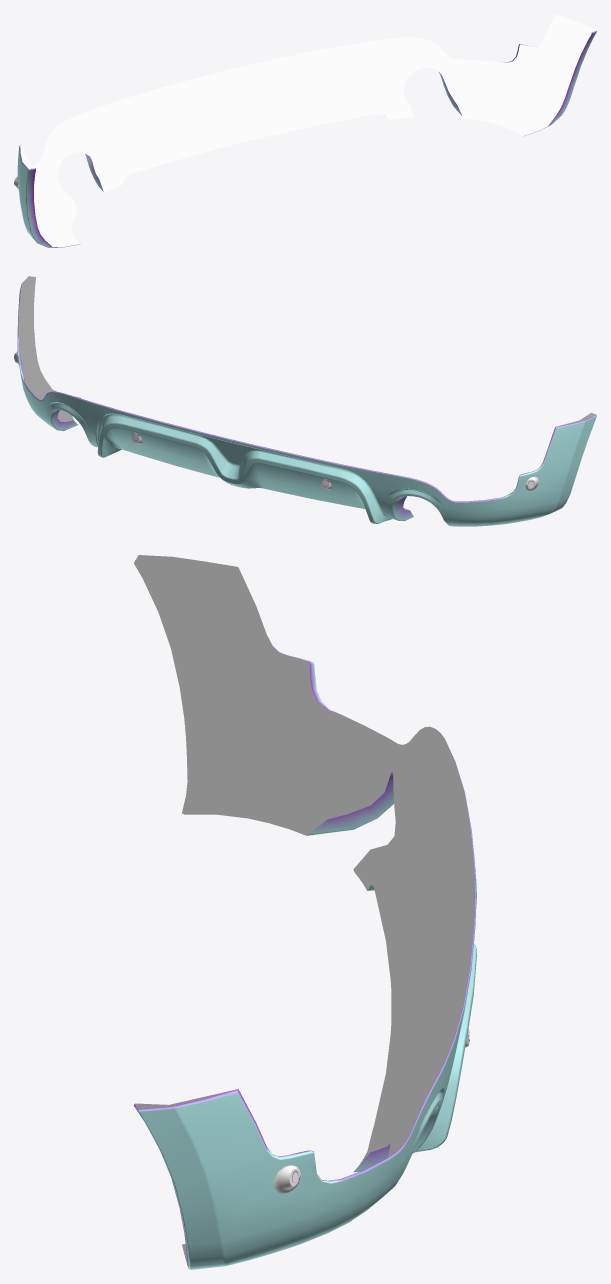
Rendered from Car_Mini_CountrymanJCW_2017_Diffuser_SetA_AltH.fbx.
3 renders of one model, top to bottom at view 1: azimuth 30°, elevation 25°; view 2: azimuth 150°, elevation 25°; view 3: azimuth 270°, elevation 25°, orthographic. The views are drawn at different scales.
Parts seen in each view (by area): view 1: Diffuser 6; view 2: Diffuser 6; view 3: Diffuser 6.
Part boxes in pixels (x1=…): Diffuser 6: x1=14, y1=14, x2=596, y2=247; Diffuser 6: x1=14, y1=276, x2=596, y2=526; Diffuser 6: x1=134, y1=555, x2=476, y2=1269.
Size of the model in its own units: 1.75 by 0.2966 by 0.4561.
